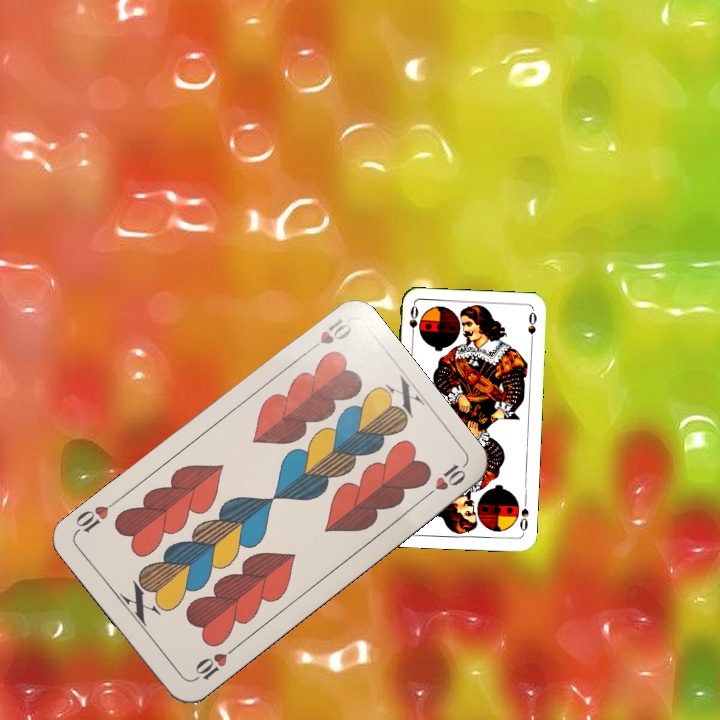H10: (301, 314, 354, 357), (189, 642, 239, 684)
SO: (405, 302, 421, 342), (516, 504, 531, 536)
